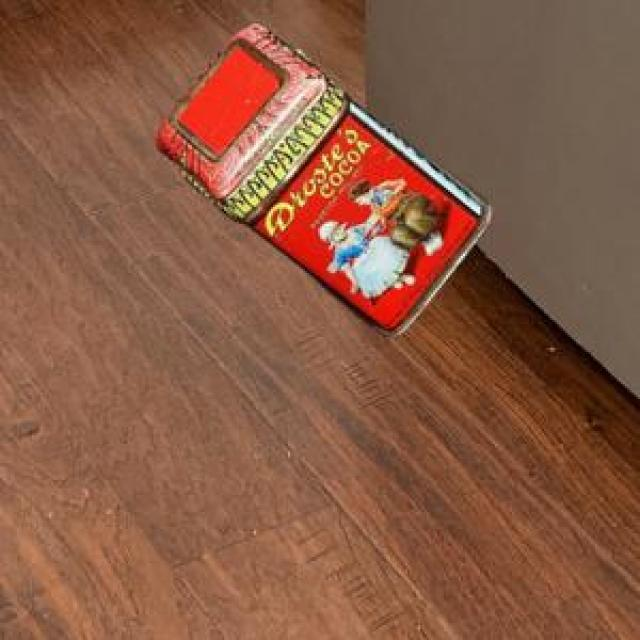Can: (155, 22, 487, 334)
